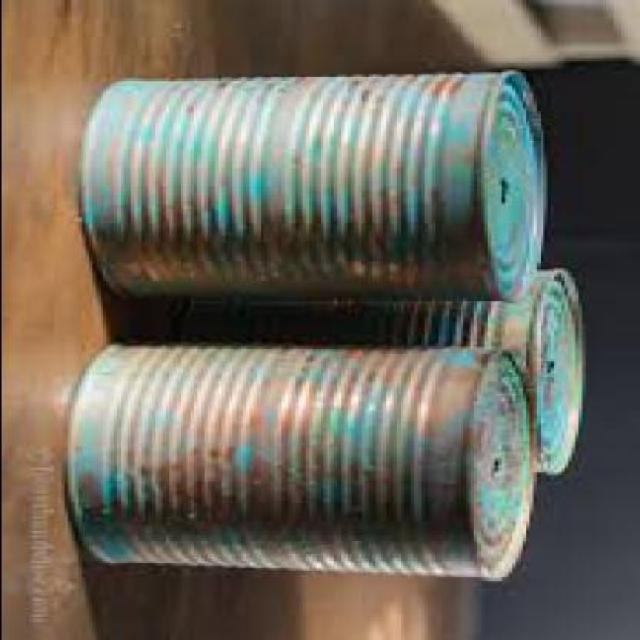METAL: (85, 65, 552, 302), (74, 344, 538, 578), (175, 266, 588, 472)
